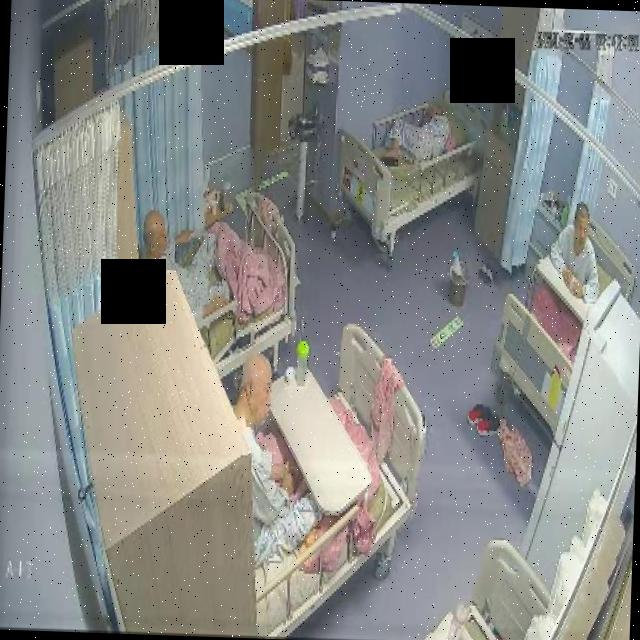bed: (242, 322, 427, 640), (490, 212, 640, 440), (168, 190, 300, 386), (335, 84, 481, 244)
lie: (379, 104, 454, 178)
patient: (226, 345, 329, 567), (134, 197, 228, 320), (546, 199, 604, 304), (380, 104, 454, 178)
sit: (224, 344, 328, 570), (134, 197, 228, 318), (546, 198, 602, 302)
